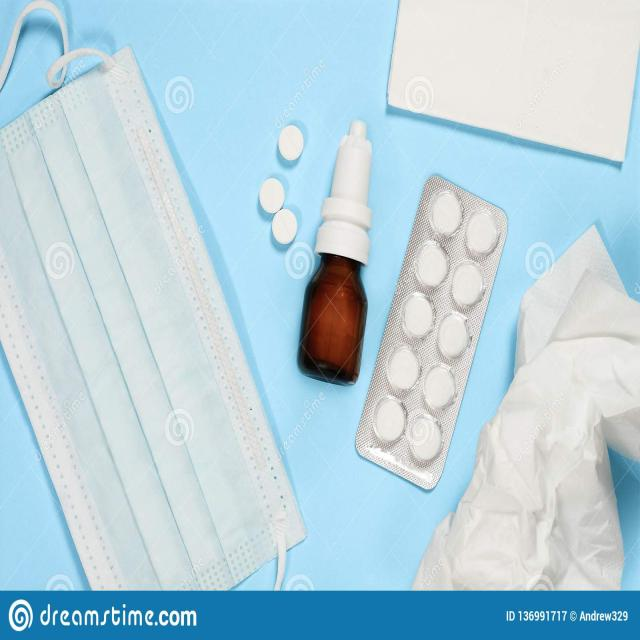B3: (348, 182, 520, 495), (291, 86, 379, 398)
